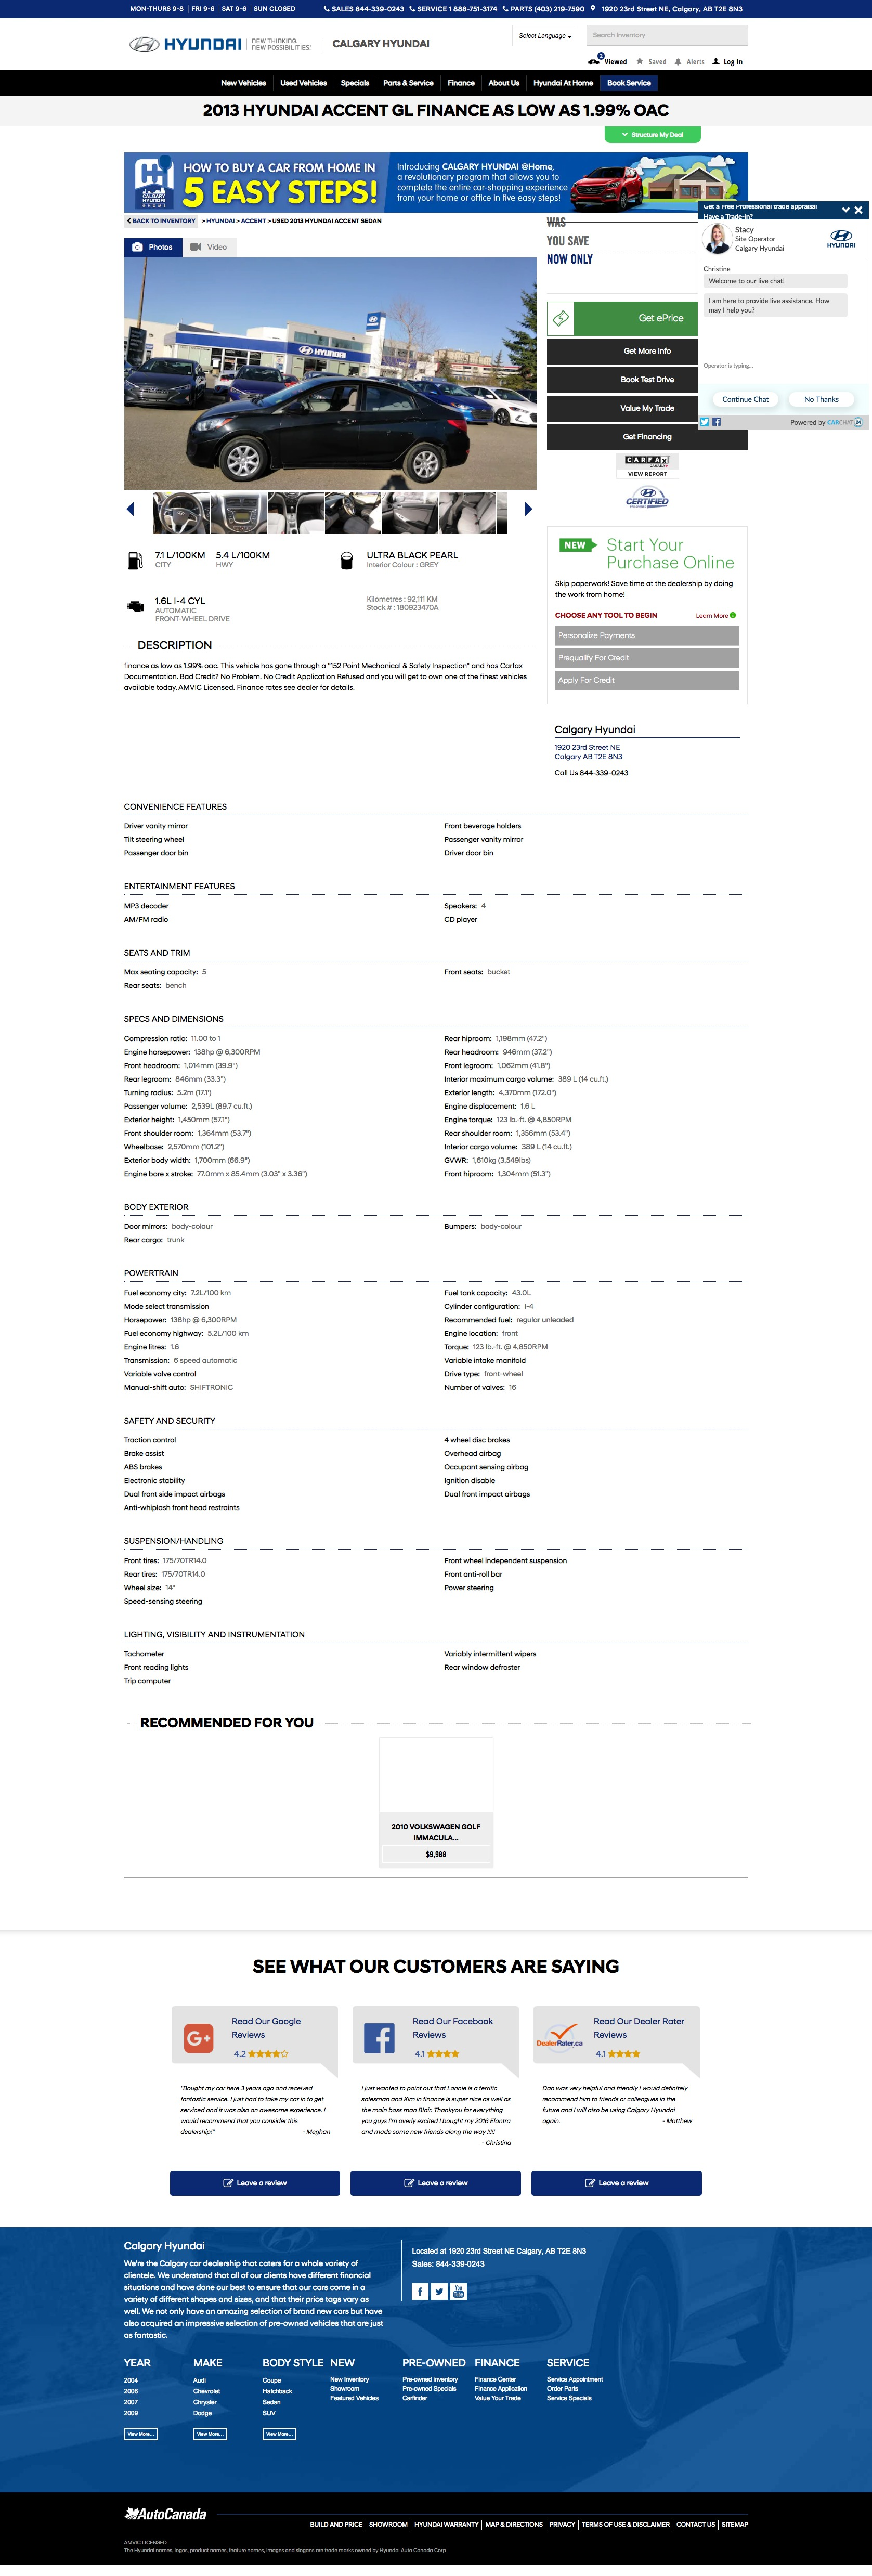car: (524, 503, 534, 516)
